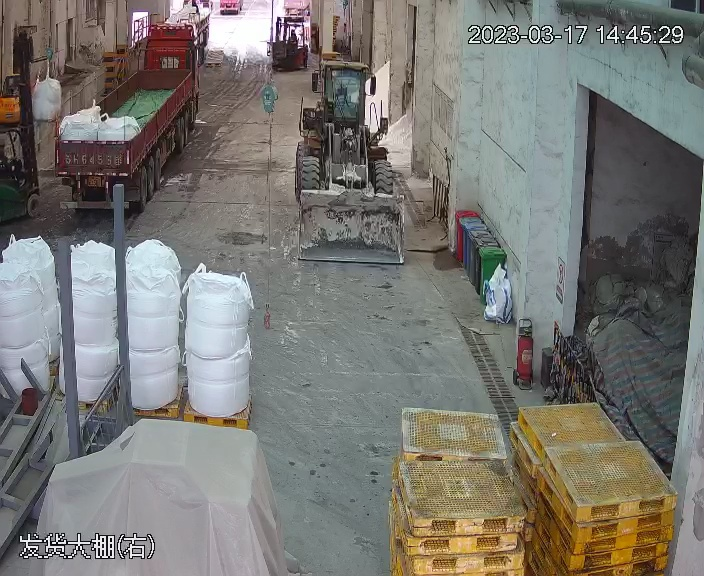truck: (41, 4, 208, 216)
